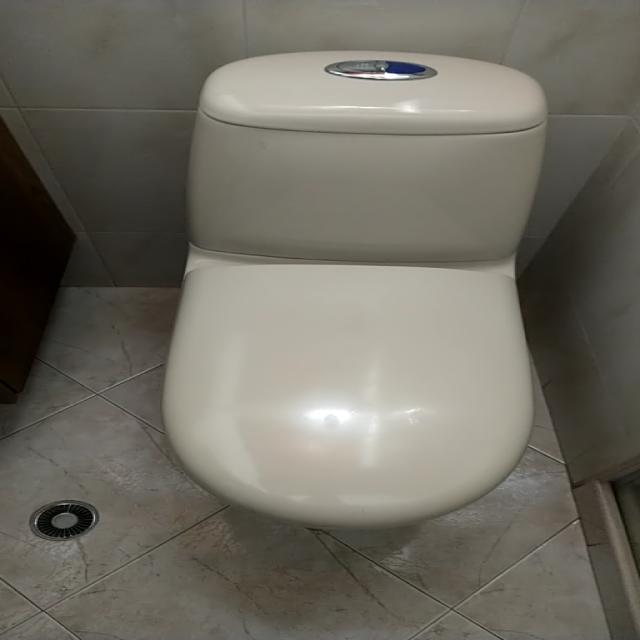toilet: (160, 49, 549, 530)
